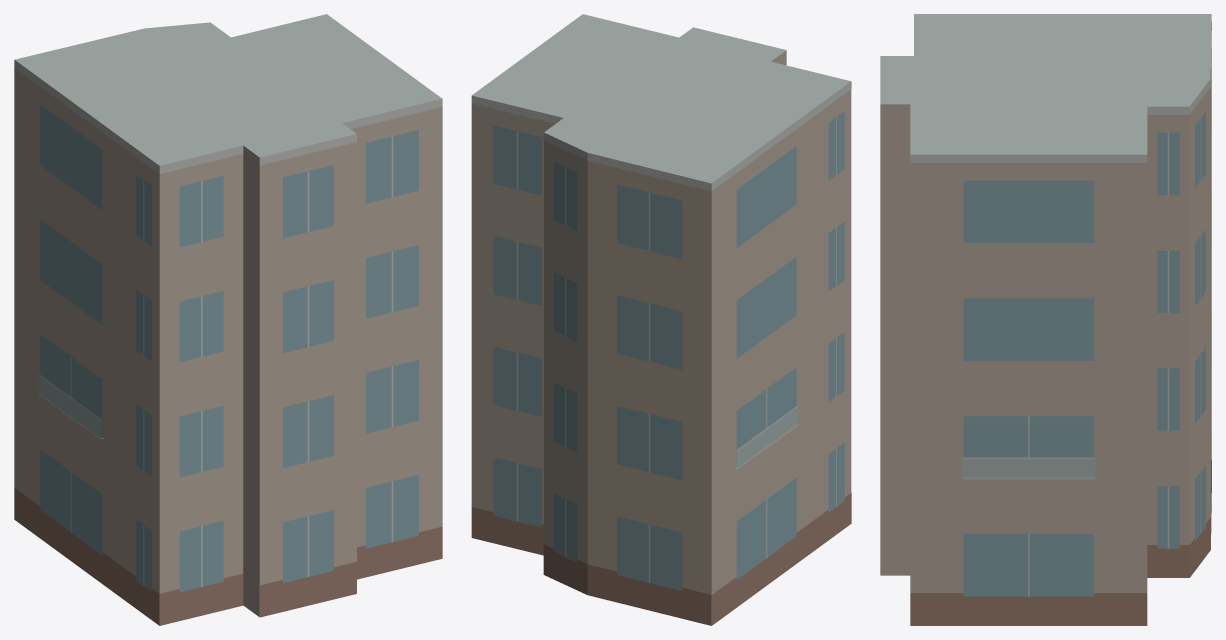
The model's file is survey-upis-32482148.glb.
3 views of the same model, side by side, from view 1: azimuth 30°, elevation 25°; view 2: azimuth 150°, elevation 25°; view 3: azimuth 270°, elevation 25° (orthographic). The views are drawn at different scales.
Visible parts, largest first — view 1: survey-upis-32482148.tmp; view 2: survey-upis-32482148.tmp; view 3: survey-upis-32482148.tmp.
Part boxes in pixels (bbox=[...]): survey-upis-32482148.tmp: bbox=[14, 14, 442, 625]; survey-upis-32482148.tmp: bbox=[471, 14, 851, 625]; survey-upis-32482148.tmp: bbox=[880, 14, 1211, 625].
Bounding box in the file's own units: 8.9 × 13.8 × 8.81.
